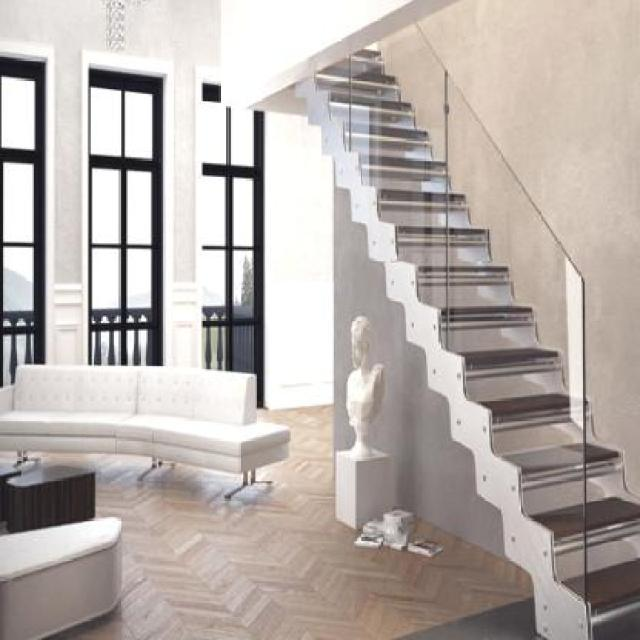stair: (297, 36, 640, 638)
